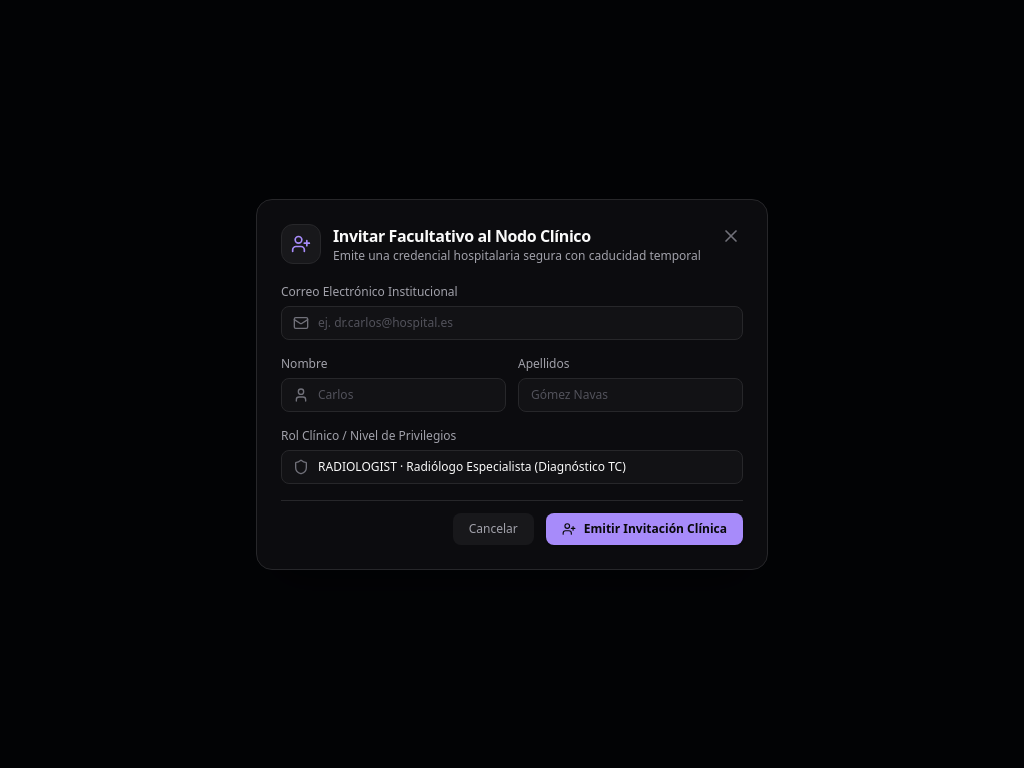
Test case: InviteClinicianDialog Component › displays validation errors when submitting with empty required fields
What coordinates should you click on to do the following:
click the button "Emitir Invitación Clínica"
I would click on:
 (644, 528)
Its box is [546,512,743,544].
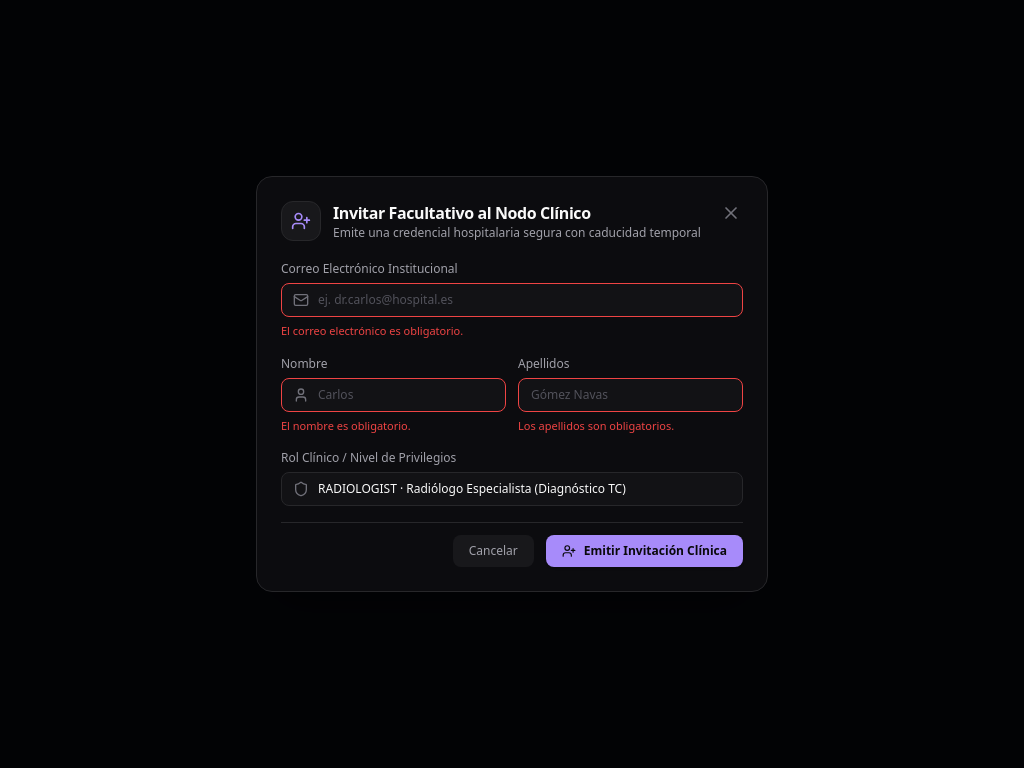
Expected: the text "El correo electrónico es obligatorio." is shown, [281,323,463,338]
Expected: the text "El nombre es obligatorio." is shown, [281,418,411,432]
Expected: the text "Los apellidos son obligatorios." is shown, [518,418,674,432]
